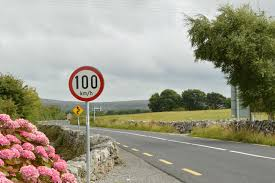Speed_limit_100km: (69, 66, 104, 101)
